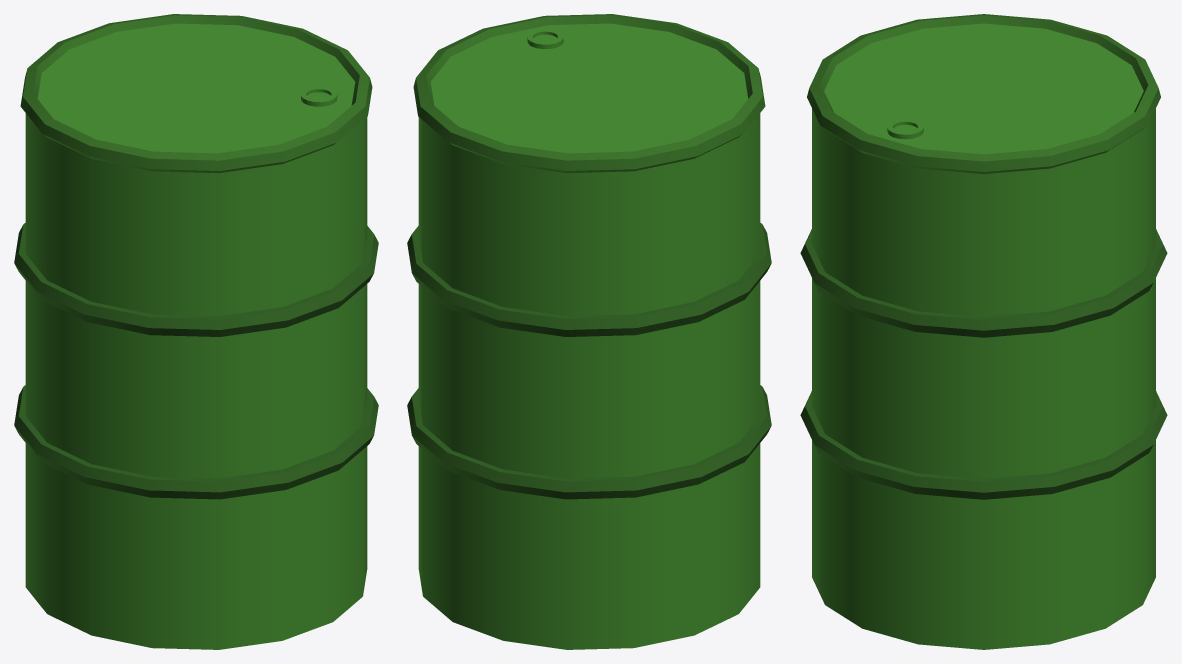
Rendered from Prop_OilBerrel_01.fbx.
3 views of the same model, side by side, from view 1: azimuth 30°, elevation 25°; view 2: azimuth 150°, elevation 25°; view 3: azimuth 270°, elevation 25° (orthographic).
Visible parts, largest first — view 1: Prop_OilBerrel_01; view 2: Prop_OilBerrel_01; view 3: Prop_OilBerrel_01.
Boxes of the visible parts, bbox=[...] form: Prop_OilBerrel_01: bbox=[14, 14, 378, 649]; Prop_OilBerrel_01: bbox=[407, 14, 771, 649]; Prop_OilBerrel_01: bbox=[800, 14, 1167, 649].
Size of the model in its own units: 90.32 by 134 by 90.32.
